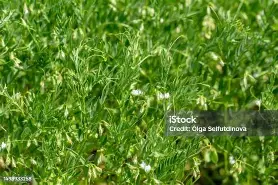crops: (0, 0, 274, 181), (183, 136, 272, 182), (135, 121, 200, 182), (58, 43, 113, 115), (92, 0, 175, 47), (218, 13, 277, 78), (140, 32, 196, 97), (41, 1, 94, 54), (2, 83, 49, 142), (0, 26, 44, 88), (34, 128, 80, 182), (94, 113, 139, 160)
